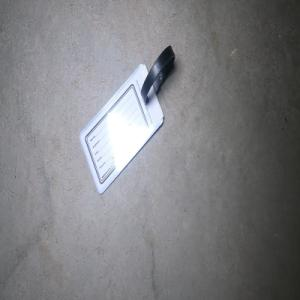LuggageTag: (78, 43, 176, 196)
